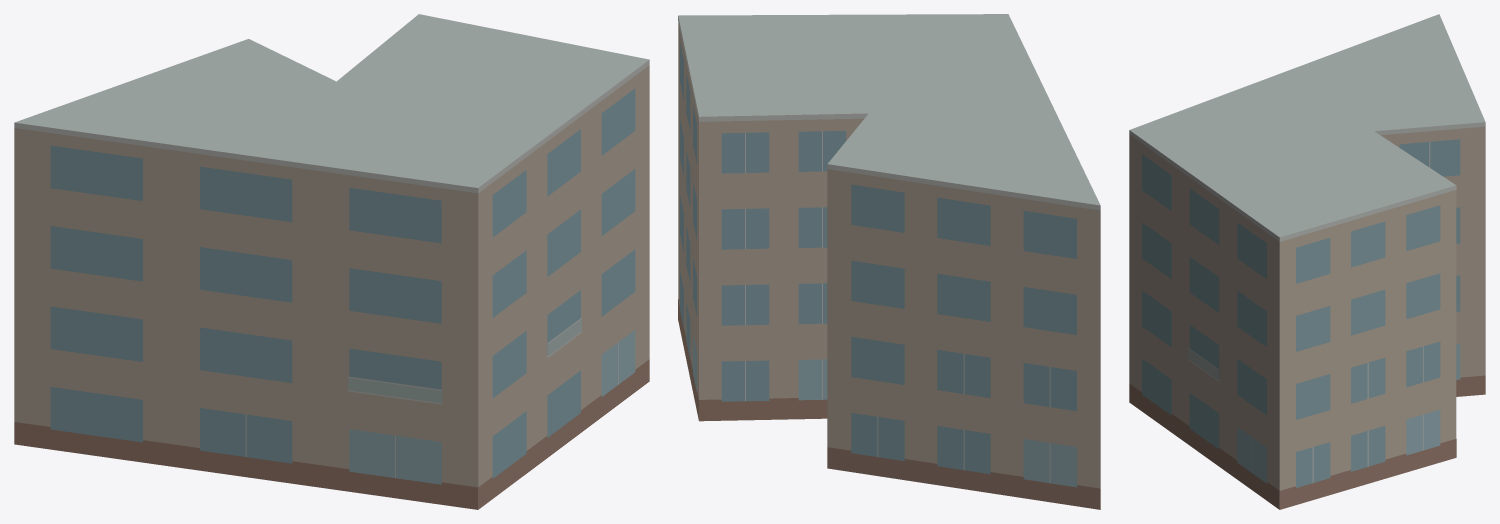
File: survey-upis-32986360.glb
3 renders of one model, left to right at view 1: azimuth 30°, elevation 25°; view 2: azimuth 150°, elevation 25°; view 3: azimuth 270°, elevation 25°, orthographic. The views are drawn at different scales.
Parts seen in each view (by area): view 1: survey-upis-32986360.tmp; view 2: survey-upis-32986360.tmp; view 3: survey-upis-32986360.tmp.
Boxes of the visible parts, <box> form: survey-upis-32986360.tmp: <box>14,14,649,509</box>; survey-upis-32986360.tmp: <box>678,14,1100,509</box>; survey-upis-32986360.tmp: <box>1129,14,1485,509</box>.
Size of the model in its own units: 26.23 by 14.9 by 17.67.
